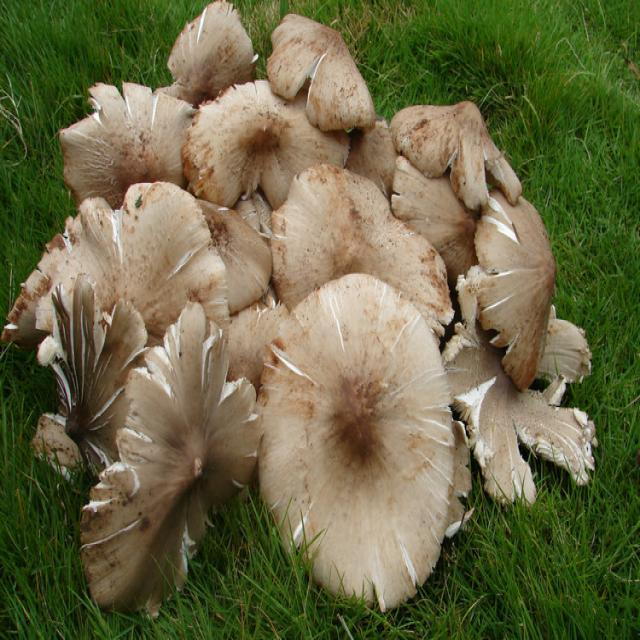Collybia albuminosa: (259, 278, 451, 609), (78, 307, 258, 612), (28, 185, 232, 344), (273, 166, 452, 339), (431, 331, 593, 504), (32, 273, 148, 474), (189, 83, 344, 203), (476, 193, 561, 386), (55, 80, 200, 192), (394, 94, 519, 204), (267, 12, 374, 130), (168, 5, 259, 80)
